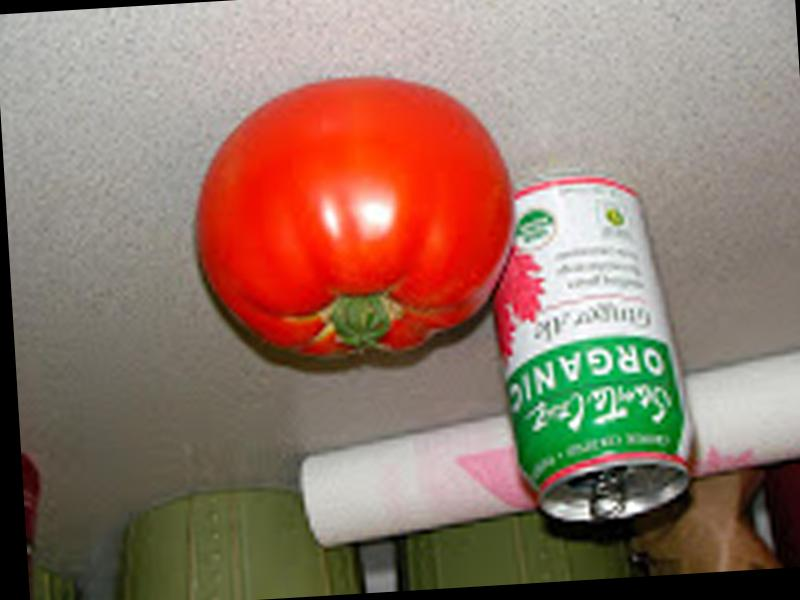Tomato: (191, 71, 518, 361)
